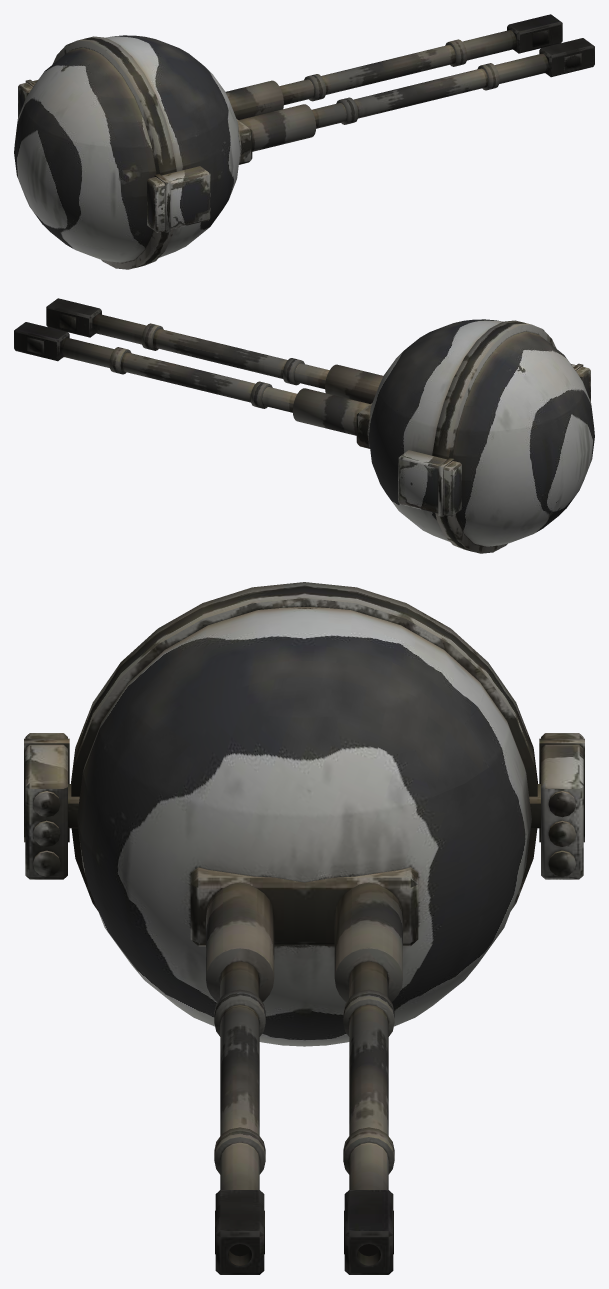
File: turret_kit_tail_ball_t2_arctic_tiger.glb
3 views of the same model, one above another, from view 1: azimuth 30°, elevation 25°; view 2: azimuth 150°, elevation 25°; view 3: azimuth 270°, elevation 25° (orthographic). The views are drawn at different scales.
Parts seen in each view (by area): view 1: turret_tail_ball_t2, pods; view 2: turret_tail_ball_t2, pods; view 3: turret_tail_ball_t2, pods.
Part boxes in pixels (x1,y1,x2,y2): turret_tail_ball_t2: [14, 14, 594, 269]; pods: [18, 79, 210, 232]; turret_tail_ball_t2: [14, 298, 594, 553]; pods: [398, 363, 590, 516]; turret_tail_ball_t2: [71, 582, 537, 1274]; pods: [24, 733, 584, 879].
Bounding box in the file's own units: 1.66 × 0.62 × 0.7402.
Materials: 2 (2 with a texture image).
